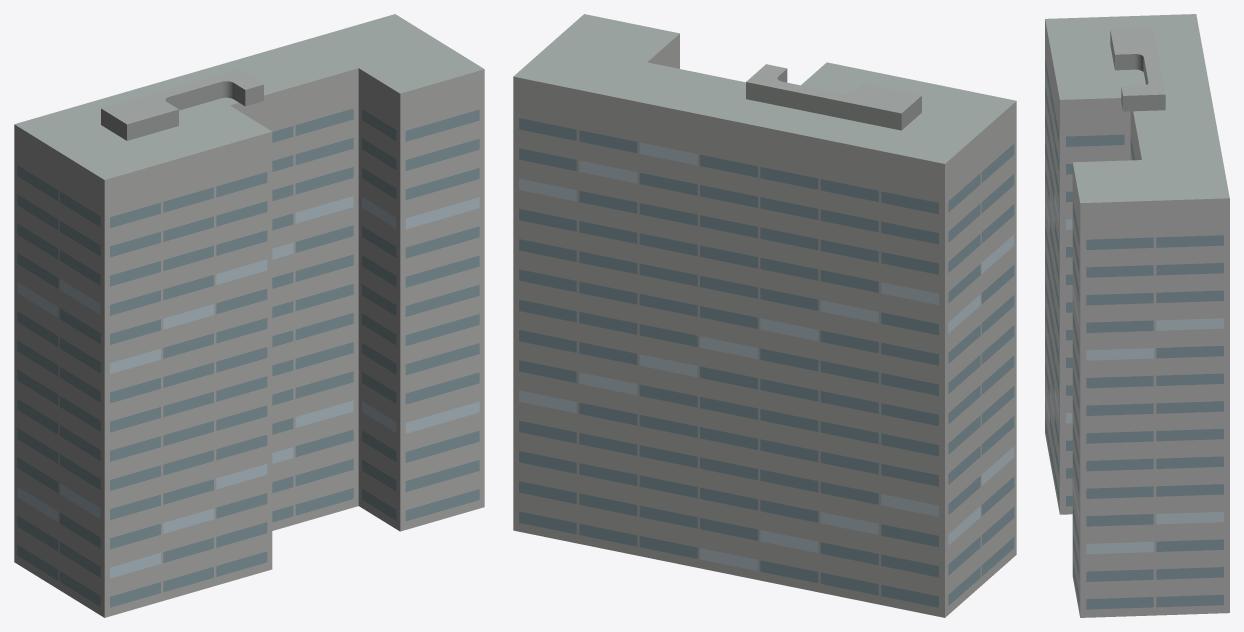
File: apt-a12172201.glb
The picture shows the model from 3 angles, left to right: view 1: azimuth 30°, elevation 25°; view 2: azimuth 150°, elevation 25°; view 3: azimuth 270°, elevation 25°; orthographic projection. The views are drawn at different scales.
Parts seen in each view (by area): view 1: apt-a12172201; view 2: apt-a12172201; view 3: apt-a12172201.
Boxes of the visible parts, x1=… form: apt-a12172201: x1=14, y1=14, x2=484, y2=617; apt-a12172201: x1=513, y1=14, x2=1016, y2=617; apt-a12172201: x1=1045, y1=14, x2=1229, y2=617.
Bounding box in the file's own units: 62.22 × 66 × 25.67.
